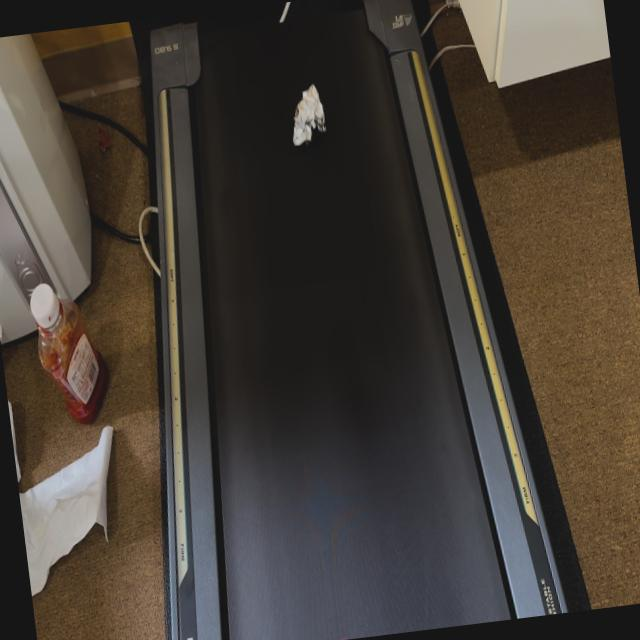Trash: (286, 83, 330, 157)
